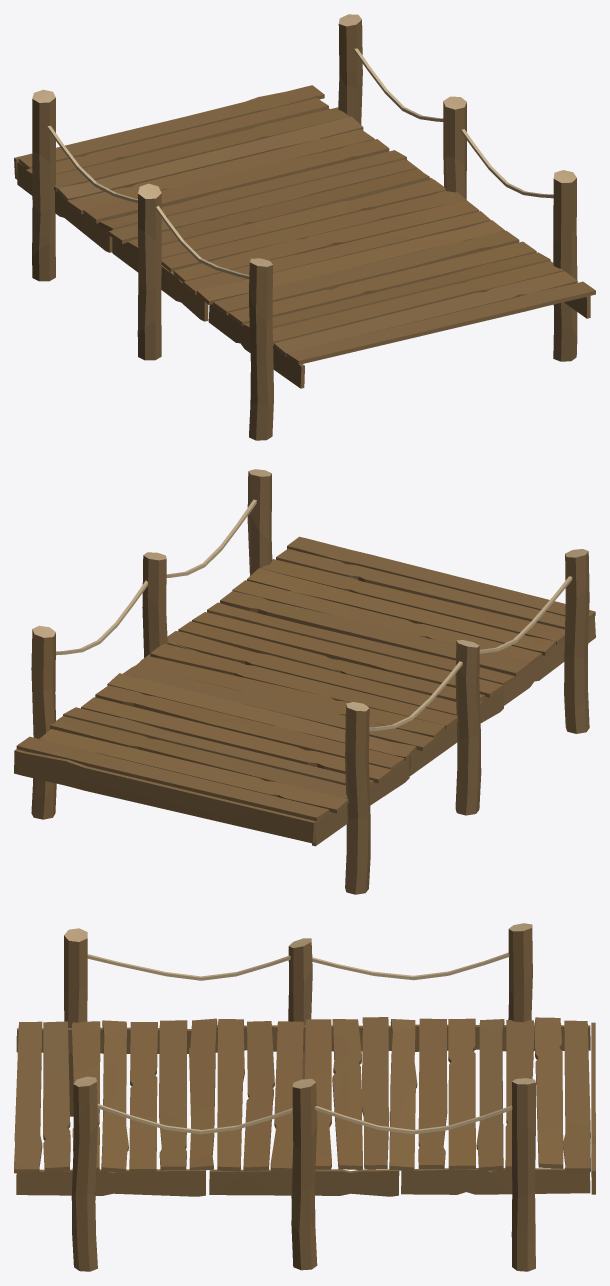
The model's file is WoodBridge.fbx.
3 renders of one model, top to bottom at view 1: azimuth 30°, elevation 25°; view 2: azimuth 150°, elevation 25°; view 3: azimuth 270°, elevation 25°, orthographic. The views are drawn at different scales.
Parts seen in each view (by area): view 1: WoodBridge; view 2: WoodBridge; view 3: WoodBridge.
Part boxes in pixels (box(x1,y1,x2,y2)): WoodBridge: box(14, 14, 595, 440); WoodBridge: box(14, 469, 595, 894); WoodBridge: box(14, 923, 595, 1271).
Bounding box in the file's own units: 8.13 × 12.05 × 4.27.
1 material, 1 textured.
